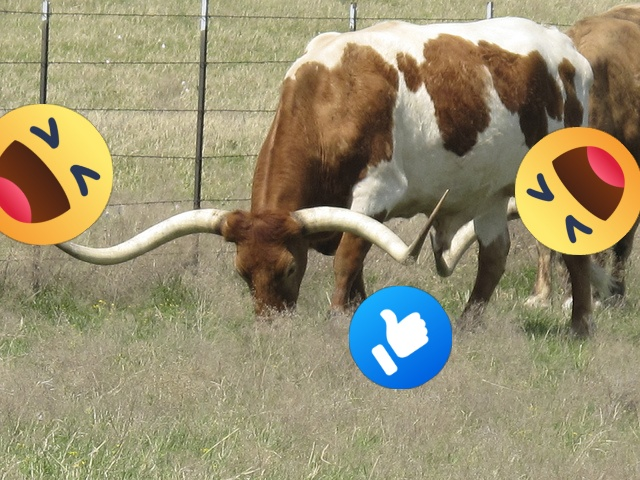haha: (515, 127, 640, 255), (0, 104, 113, 245)
like: (349, 286, 452, 389)
